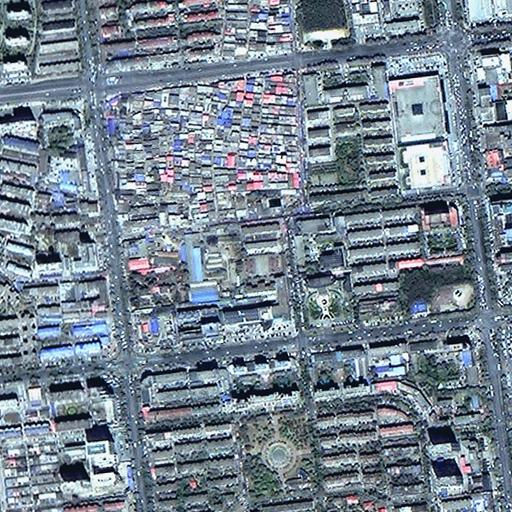school: (227, 220, 288, 287)
